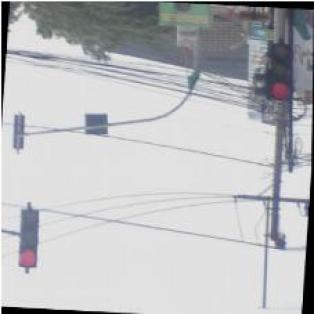Semaforo Rojo: (267, 43, 293, 98), (16, 208, 38, 270)
